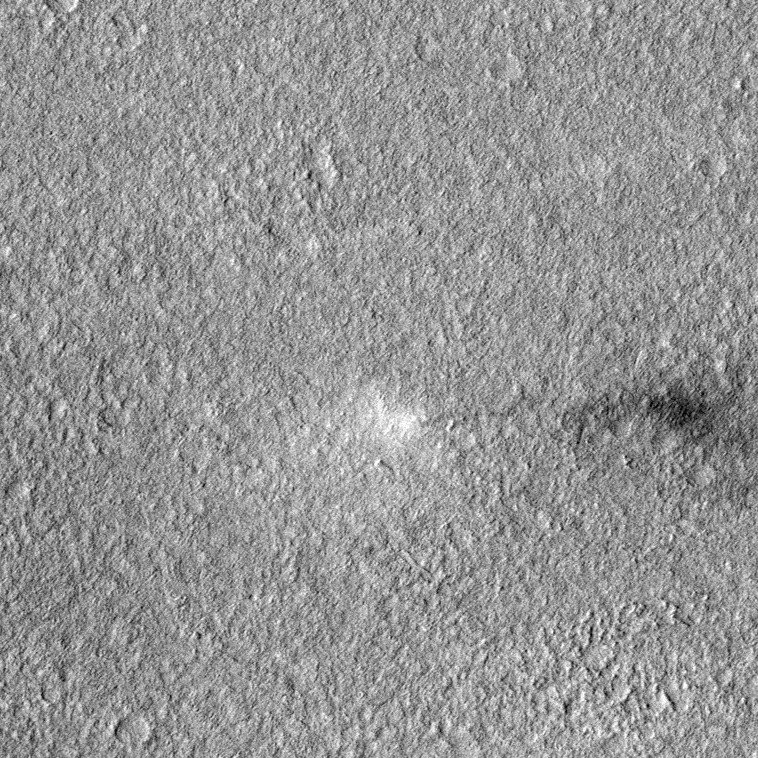dust_devil: (337, 379, 758, 476)
